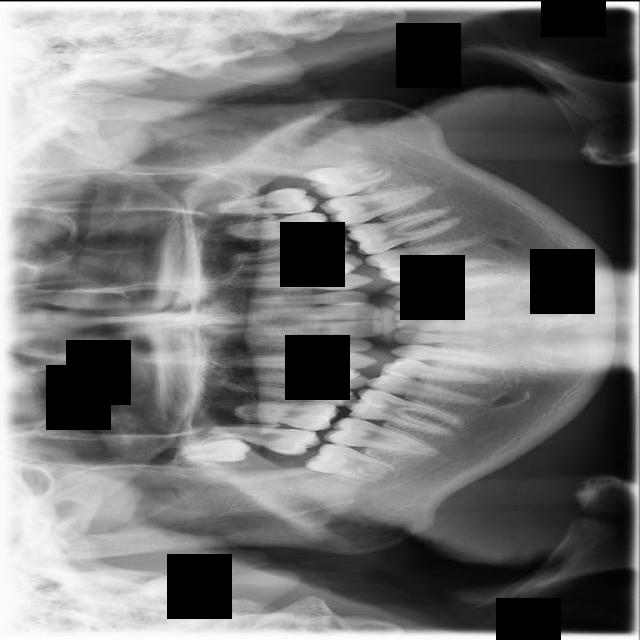3M ESPE Implant: (147, 436, 252, 467)
52: (345, 383, 400, 423), (282, 398, 343, 433), (360, 418, 364, 422)
73: (593, 29, 611, 34)
BioHorizons Implant: (201, 186, 318, 216)
Biomet 3i Implant: (301, 157, 395, 202)
Blue Sky Bio Implant: (319, 183, 435, 230)
Caries: (192, 421, 321, 456)
Implant: (323, 412, 444, 459)
Keystone Dental Implant: (304, 437, 399, 487)
